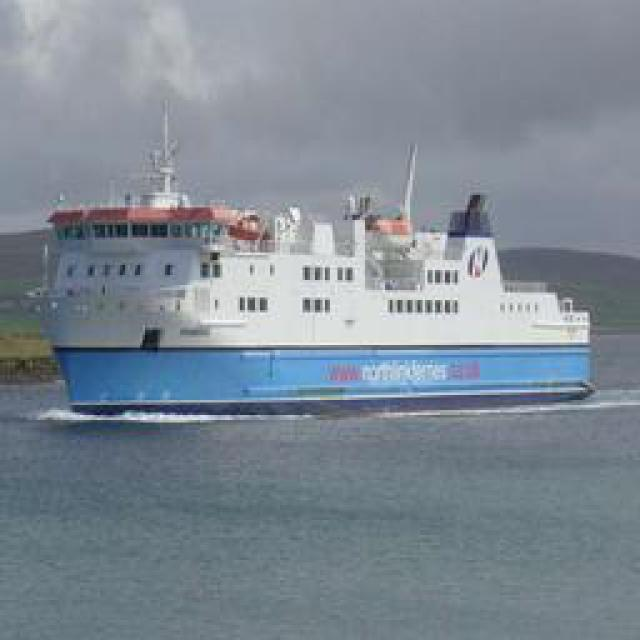Ship: (36, 132, 604, 410)
